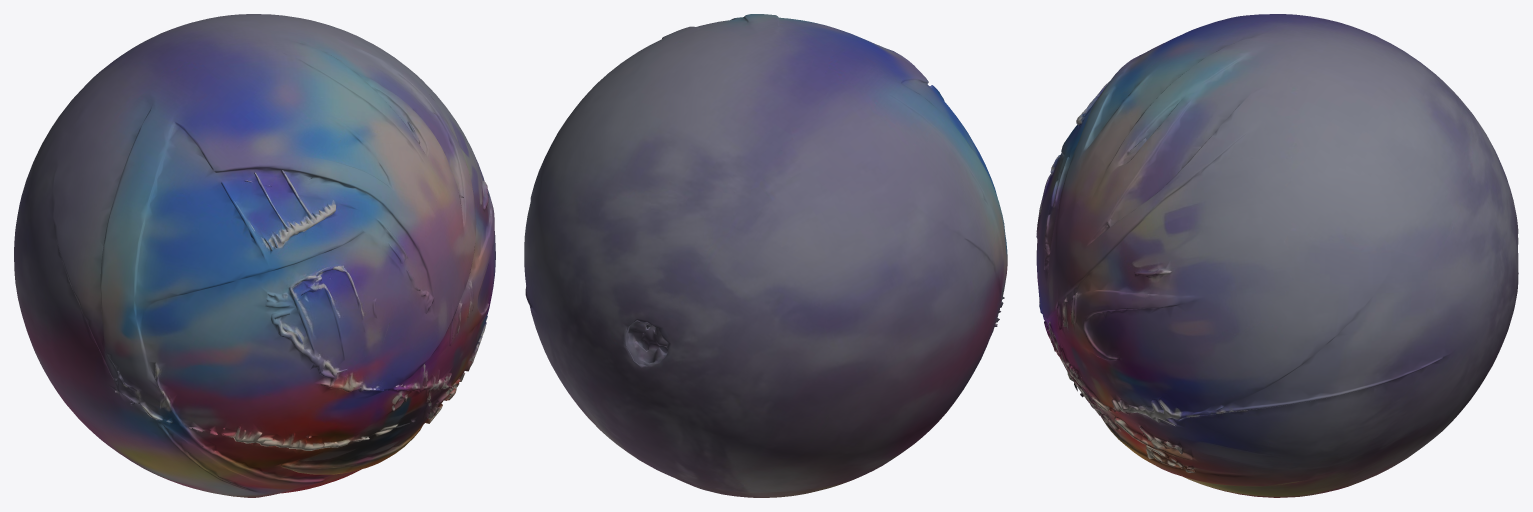
File: world.glb
3 views of the same model, side by side, from view 1: azimuth 30°, elevation 25°; view 2: azimuth 150°, elevation 25°; view 3: azimuth 270°, elevation 25° (orthographic).
Parts seen in each view (by area): view 1: tripo_node_11b83299-a124-405e-b10f-0e072f290e05; view 2: tripo_node_11b83299-a124-405e-b10f-0e072f290e05; view 3: tripo_node_11b83299-a124-405e-b10f-0e072f290e05.
Boxes of the visible parts, box(x1,y1,x2,y2) form: tripo_node_11b83299-a124-405e-b10f-0e072f290e05: box(14, 14, 495, 497); tripo_node_11b83299-a124-405e-b10f-0e072f290e05: box(524, 14, 1007, 497); tripo_node_11b83299-a124-405e-b10f-0e072f290e05: box(1036, 14, 1518, 497).
Bounding box in the file's own units: 1 × 0.9996 × 0.9939.
1 material, 1 textured.
